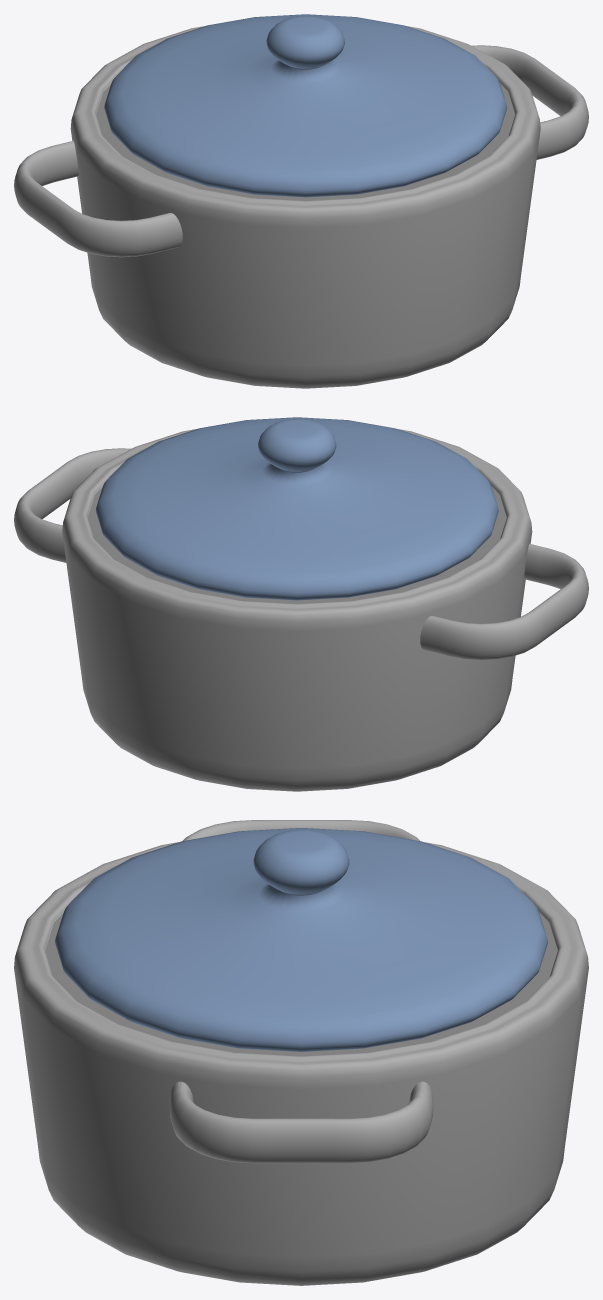
The model's file is cookingPot_1.dae.
The picture shows the model from 3 angles, top to bottom: view 1: azimuth 30°, elevation 25°; view 2: azimuth 150°, elevation 25°; view 3: azimuth 270°, elevation 25°; orthographic projection. The views are drawn at different scales.
Visible parts, largest first — view 1: mesh3_002; view 2: mesh3_002; view 3: mesh3_002.
Boxes of the visible parts, box(x1,y1,x2,y2) form: mesh3_002: box(14, 14, 588, 388); mesh3_002: box(14, 417, 588, 791); mesh3_002: box(14, 820, 588, 1285).
Bounding box in the file's own units: 0.254 × 0.1999 × 0.1416.
